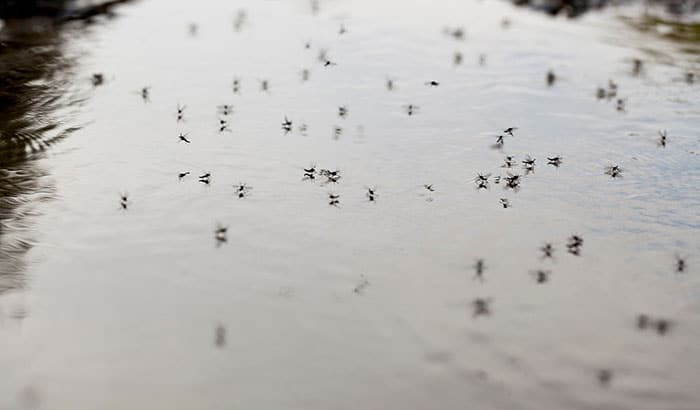Breeding_detected: (428, 22, 653, 112), (473, 124, 538, 195), (623, 302, 676, 341), (301, 162, 349, 185), (655, 125, 674, 155), (604, 159, 626, 180), (116, 190, 133, 215), (232, 180, 250, 203)
